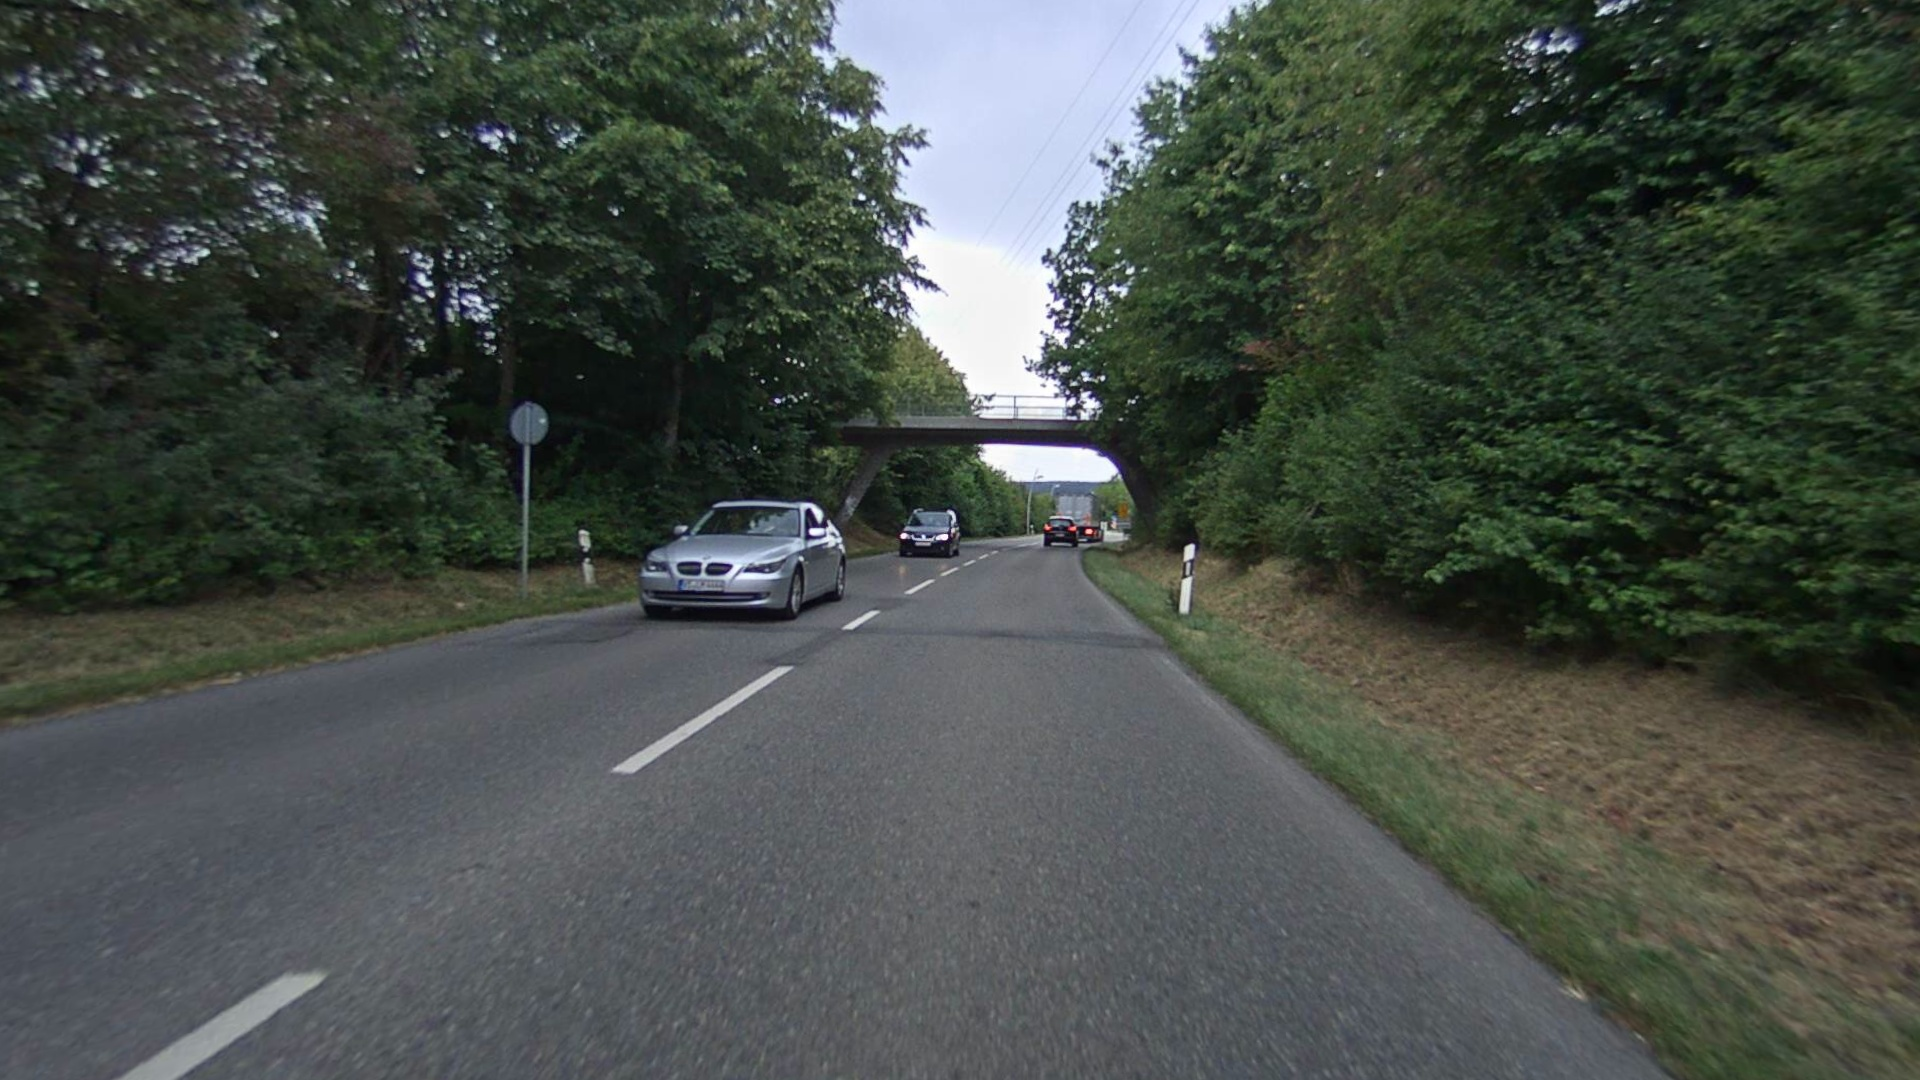car: (633, 495, 851, 622)
